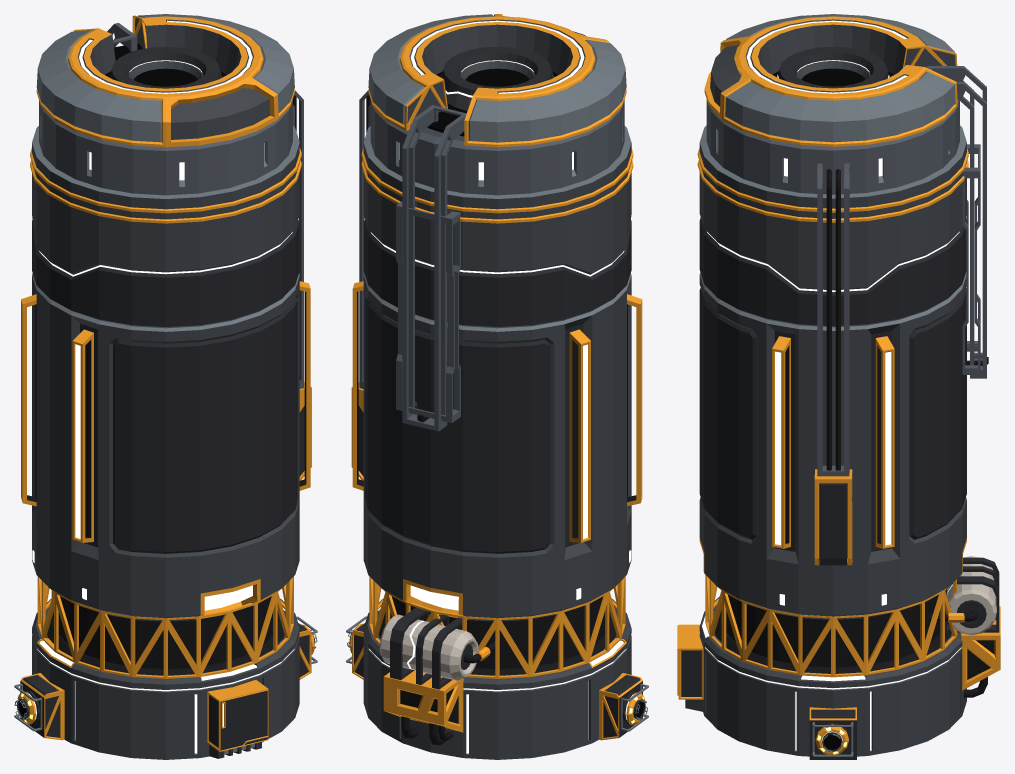
Rendered from SM_Water_Tank.glb.
3 renders of one model, left to right at view 1: azimuth 30°, elevation 25°; view 2: azimuth 150°, elevation 25°; view 3: azimuth 270°, elevation 25°, orthographic.
Parts seen in each view (by area): view 1: SM_Water_Tank; view 2: SM_Water_Tank; view 3: SM_Water_Tank.
Boxes of the visible parts, x1,y1,x2,y2 form: SM_Water_Tank: [14, 14, 317, 759]; SM_Water_Tank: [346, 14, 648, 759]; SM_Water_Tank: [677, 14, 1000, 759].
Bounding box in the file's own units: 12.16 × 25.71 × 11.68.
3 materials, 1 textured.
